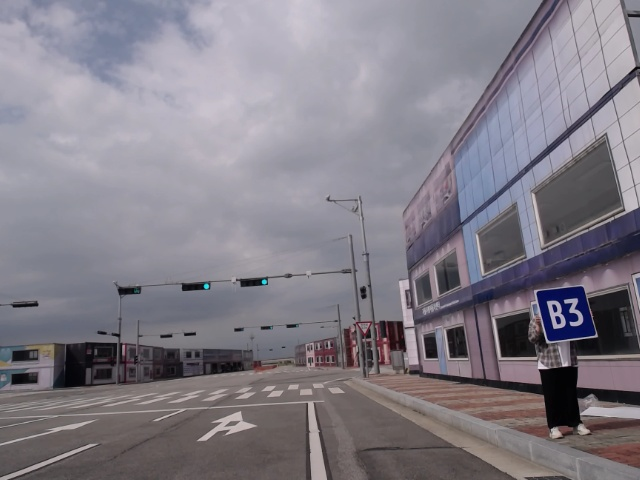delivery_b3: (532, 288, 598, 345)
straight_green_4: (179, 279, 213, 292), (238, 276, 271, 288), (259, 324, 275, 331), (285, 323, 302, 329)
